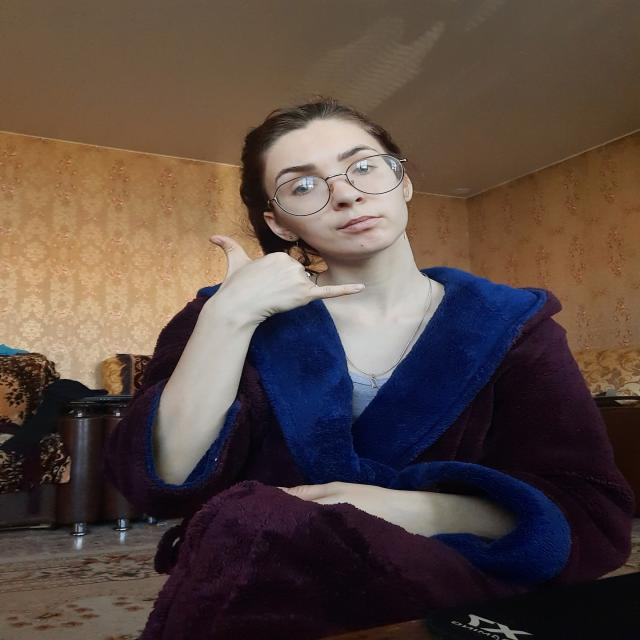call: (203, 232, 369, 320)
